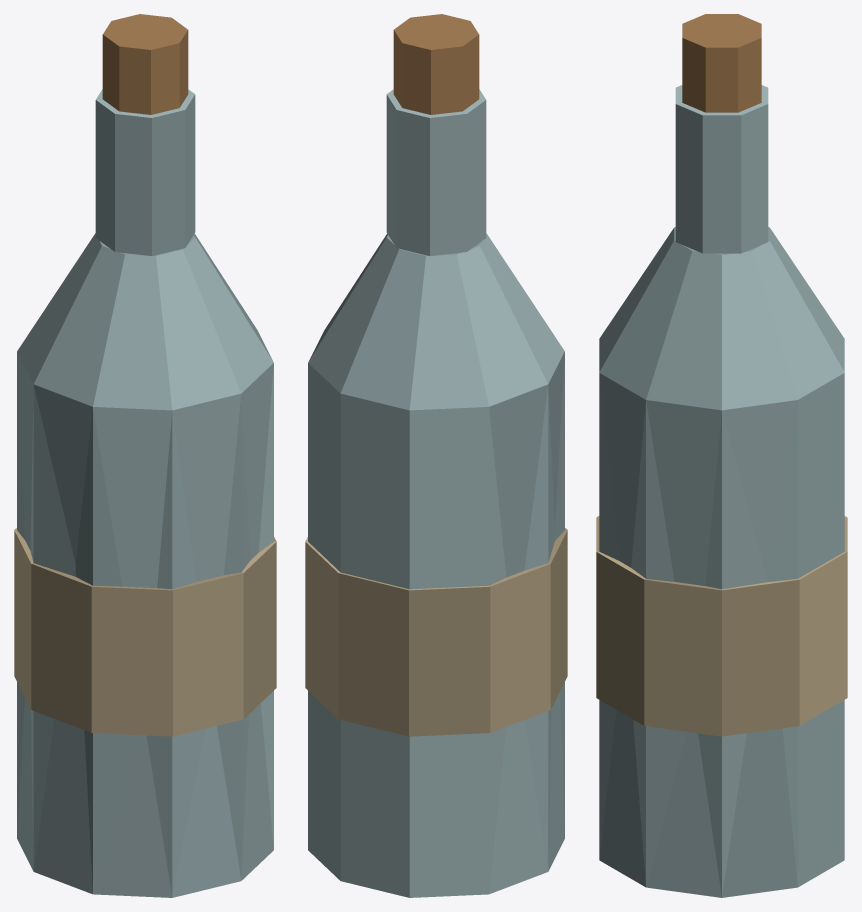
The model's file is bottle_water_steklyannaya_idle.glb.
3 views of the same model, side by side, from view 1: azimuth 30°, elevation 25°; view 2: azimuth 150°, elevation 25°; view 3: azimuth 270°, elevation 25° (orthographic).
Visible parts, largest first — view 1: bottle_water_steklyannaya_idle; view 2: bottle_water_steklyannaya_idle; view 3: bottle_water_steklyannaya_idle.
Boxes of the visible parts, box(x1,y1,x2,y2) form: bottle_water_steklyannaya_idle: box(14, 14, 276, 897); bottle_water_steklyannaya_idle: box(305, 14, 567, 897); bottle_water_steklyannaya_idle: box(596, 14, 847, 897).
Bounding box in the file's own units: 0.0736 × 0.25 × 0.07.
1 material, 1 textured.
